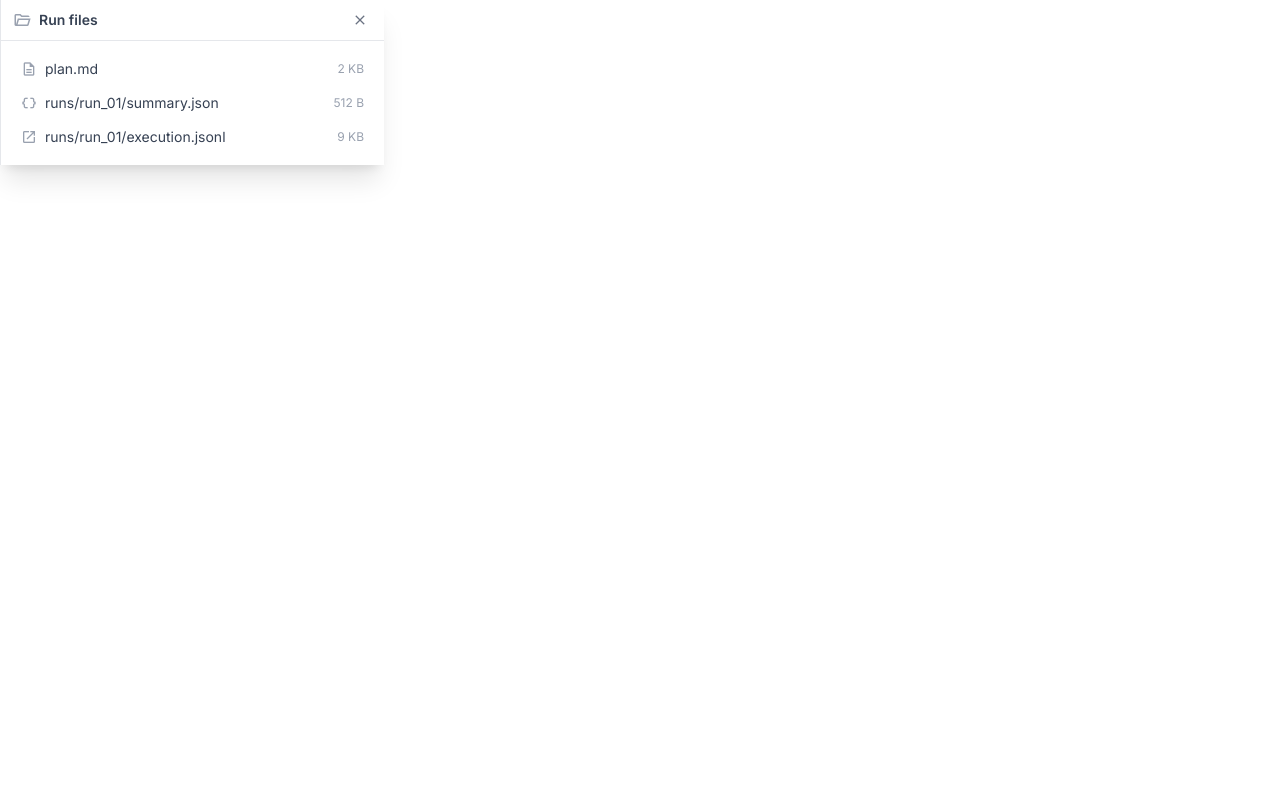
it: CompanionDrawer › opens a markdown companion and renders it
Click the text "plan.md": (72, 69) [45, 59, 98, 79]
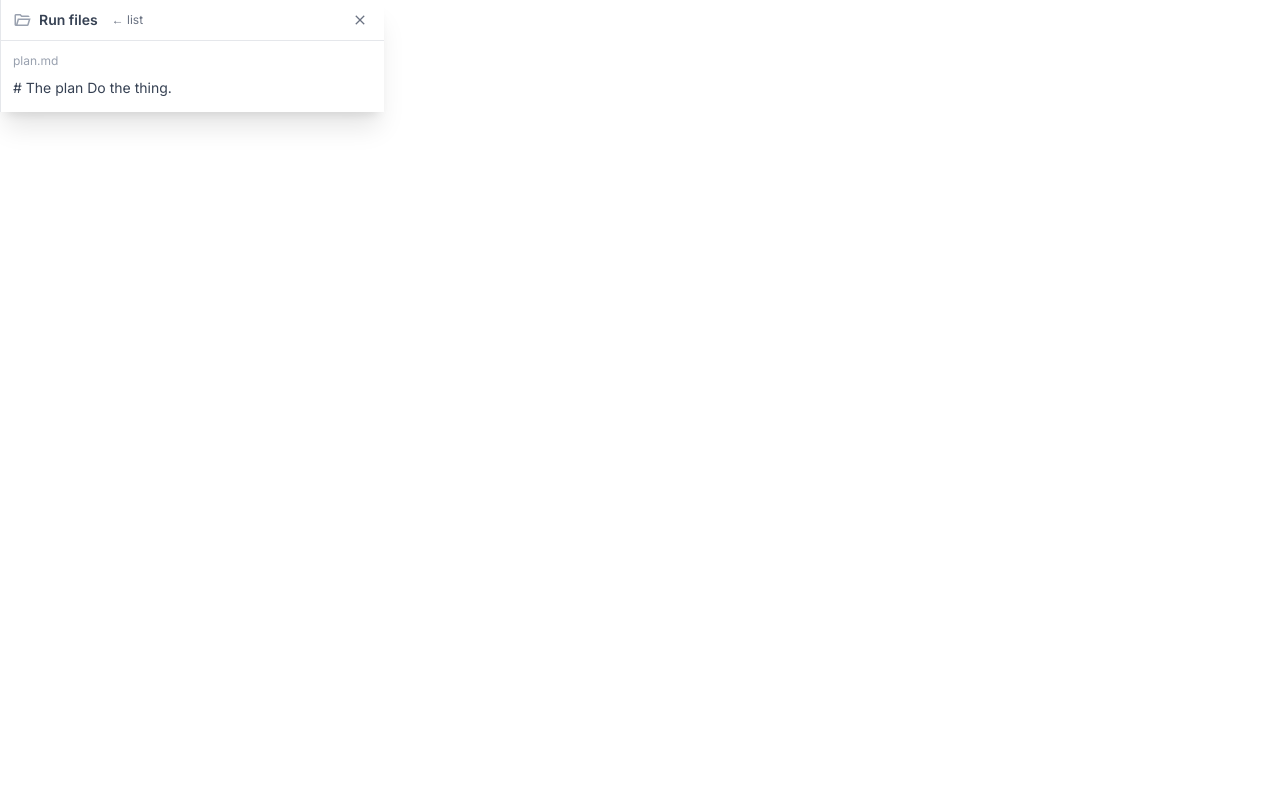
Result: the text "Do the thing." is shown at [13, 79, 172, 96]
